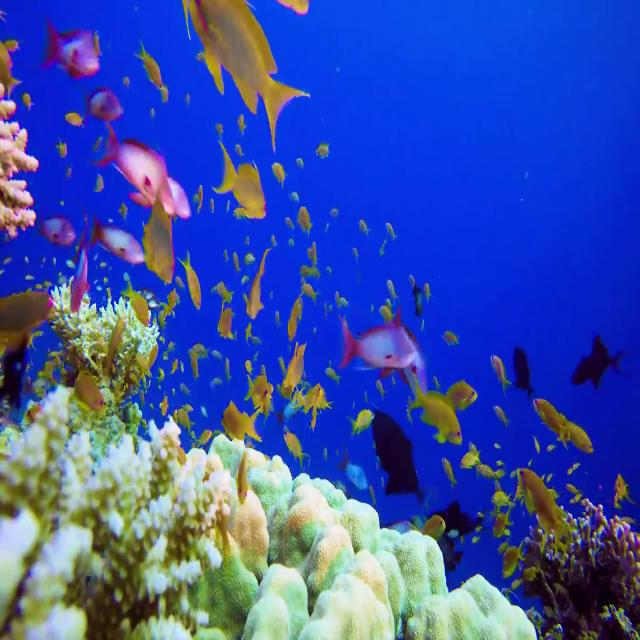fish: (182, 0, 297, 136), (100, 123, 177, 210), (341, 312, 421, 381), (518, 466, 566, 550), (213, 141, 264, 217), (409, 380, 462, 444), (570, 333, 630, 389), (45, 15, 101, 72), (90, 214, 146, 264)
